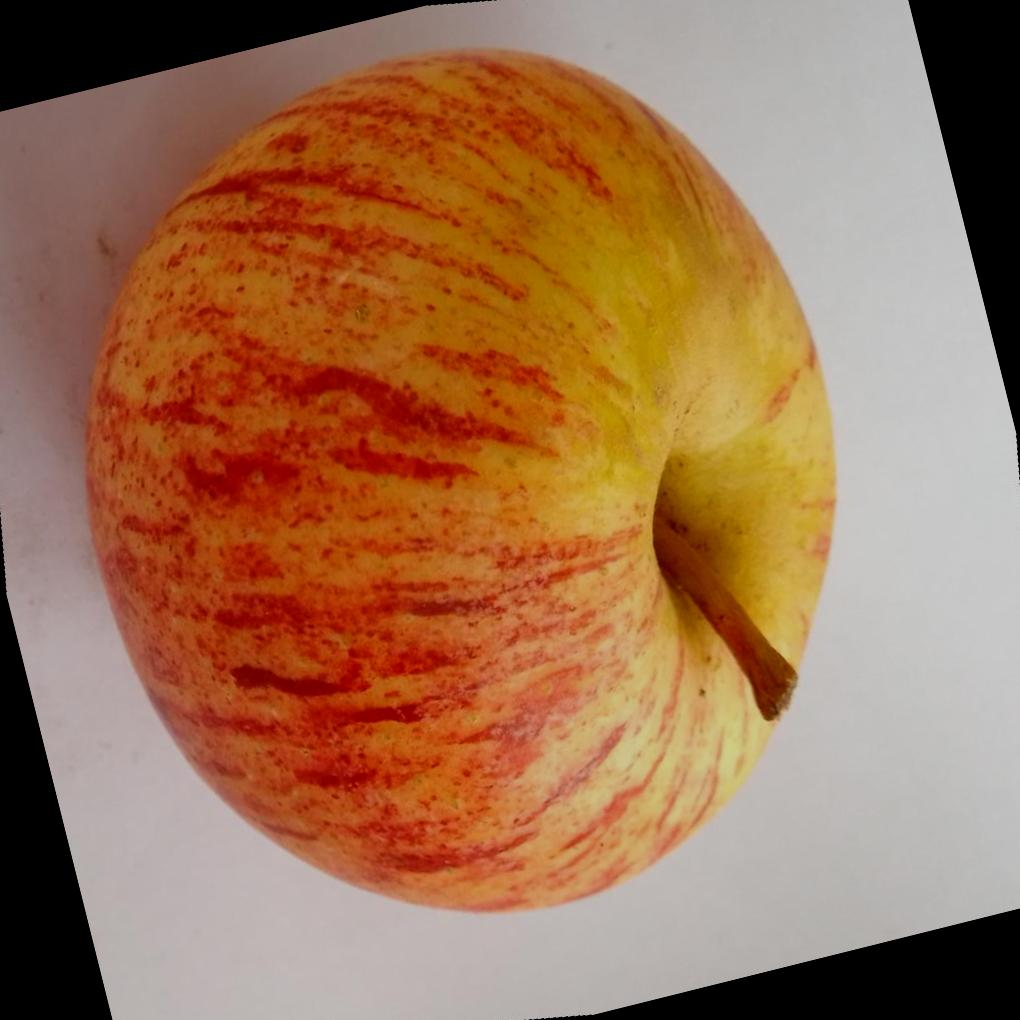FreshGuava: (79, 46, 838, 917)
